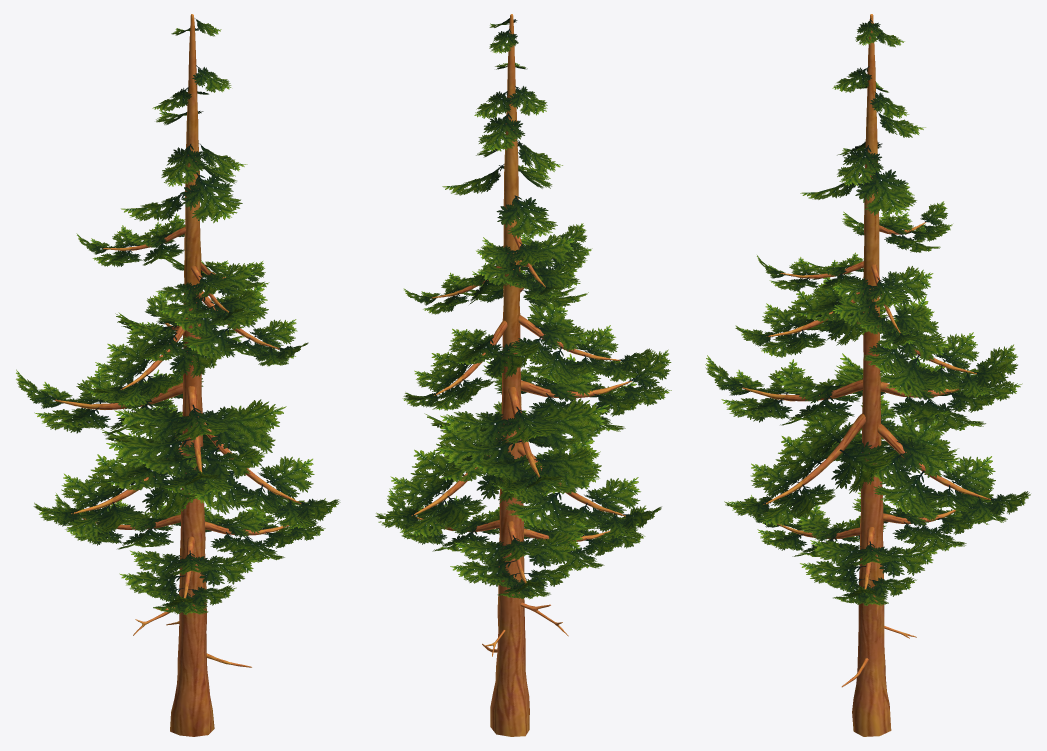
The model's file is stylized_pine_var1.glb.
3 renders of one model, left to right at view 1: azimuth 30°, elevation 25°; view 2: azimuth 150°, elevation 25°; view 3: azimuth 270°, elevation 25°, orthographic.
Parts seen in each view (by area): view 1: stylized_pine_var1; view 2: stylized_pine_var1; view 3: stylized_pine_var1.
Boxes of the visible parts, left/top/right/bottom form: stylized_pine_var1: left=16, top=14, right=340, bottom=736; stylized_pine_var1: left=375, top=14, right=671, bottom=736; stylized_pine_var1: left=705, top=14, right=1030, bottom=736.
Size of the model in its own units: 593 by 1433 by 600.
Materials: 2 (2 with a texture image).
